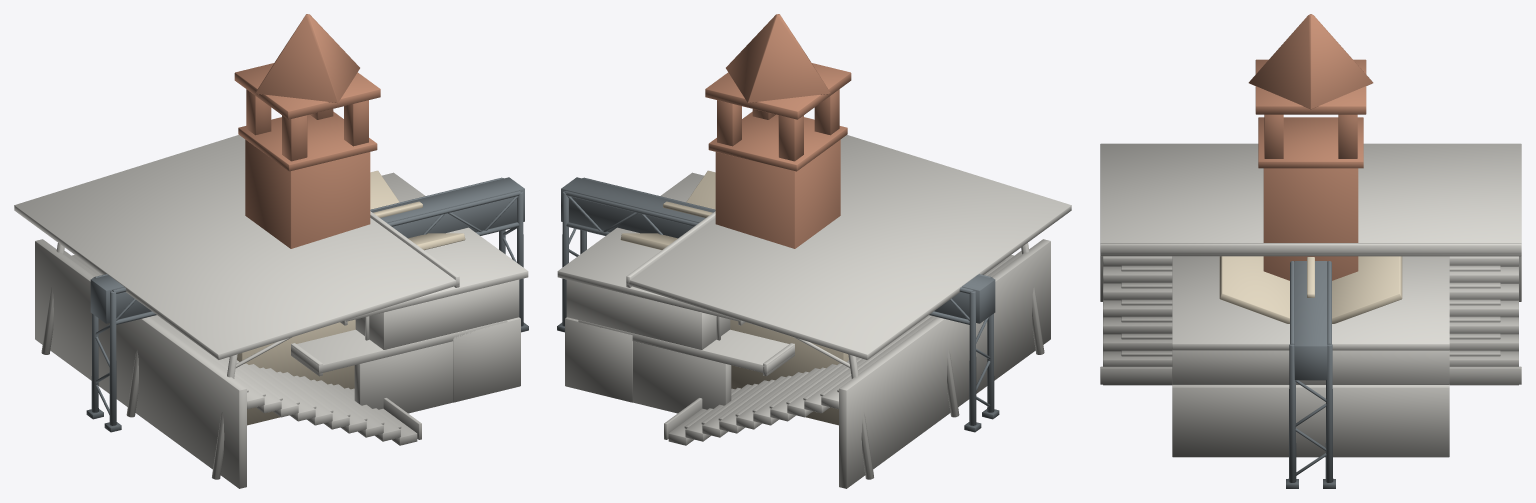
File: trackside.glb
3 views of the same model, side by side, from view 1: azimuth 30°, elevation 25°; view 2: azimuth 150°, elevation 25°; view 3: azimuth 270°, elevation 25° (orthographic). The views are drawn at different scales.
Visible parts, largest first — view 1: GrandstandBay, PitGarageBay, TuscanCampanile, StartGantry, TuscanVilla; view 2: GrandstandBay, PitGarageBay, TuscanCampanile, StartGantry, TuscanVilla; view 3: GrandstandBay, PitGarageBay, TuscanCampanile, TuscanVilla, StartGantry.
Part boxes in pixels (left/top/right/bottom): GrandstandBay: left=14, top=135, right=459, bottom=488; PitGarageBay: left=291, top=172, right=528, bottom=413; TuscanCampanile: left=234, top=14, right=380, bottom=248; StartGantry: left=86, top=177, right=528, bottom=432; TuscanVilla: left=237, top=170, right=465, bottom=425; GrandstandBay: left=626, top=135, right=1071, bottom=488; PitGarageBay: left=557, top=172, right=794, bottom=413; TuscanCampanile: left=705, top=14, right=851, bottom=248; StartGantry: left=557, top=177, right=999, bottom=432; TuscanVilla: left=620, top=170, right=848, bottom=425; GrandstandBay: left=1100, top=143, right=1521, bottom=385; PitGarageBay: left=1172, top=256, right=1449, bottom=457; TuscanCampanile: left=1248, top=14, right=1373, bottom=280; TuscanVilla: left=1219, top=256, right=1402, bottom=323; StartGantry: left=1286, top=261, right=1335, bottom=488.
Bounding box in the file's own units: 28.4 × 23.24 × 24.
